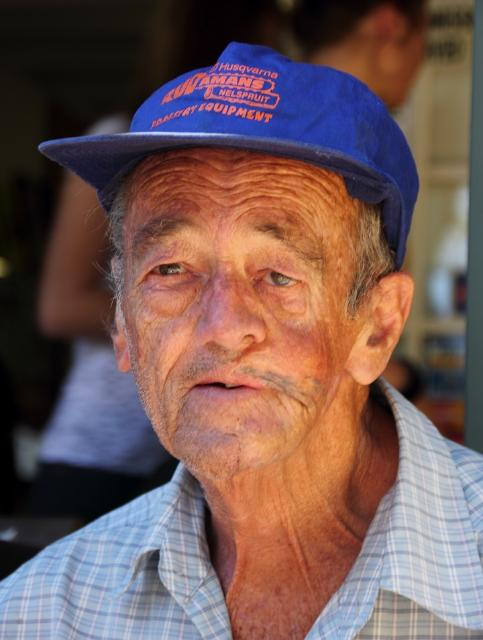forehead: (256, 166, 314, 210), (201, 172, 243, 202), (144, 158, 175, 194)
gummy_smile: (155, 352, 179, 390)
masseter: (277, 387, 313, 417)
